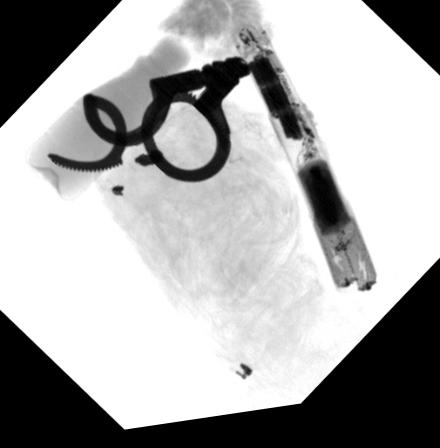Baton: (231, 23, 381, 304)
HandCuffs: (44, 61, 251, 188)
